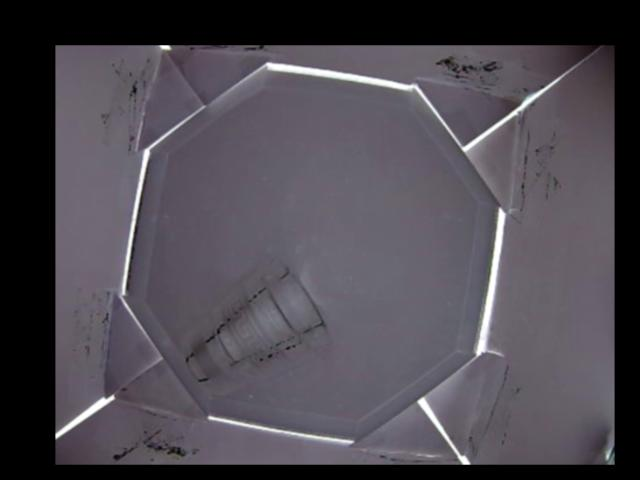Cup: (185, 249, 334, 386)
